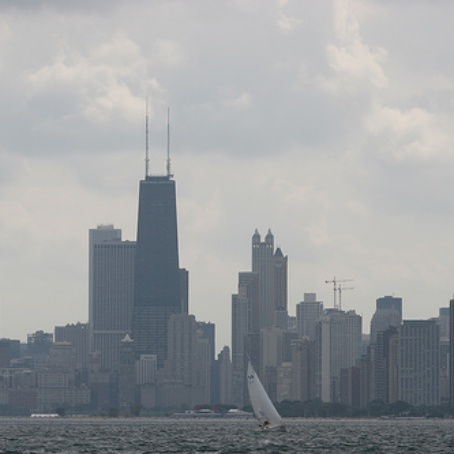boat: (233, 362, 287, 441)
building: (86, 223, 136, 407), (131, 171, 181, 345), (252, 220, 288, 408), (225, 266, 262, 410)
sea: (2, 418, 454, 454)
sky: (4, 4, 451, 325)
